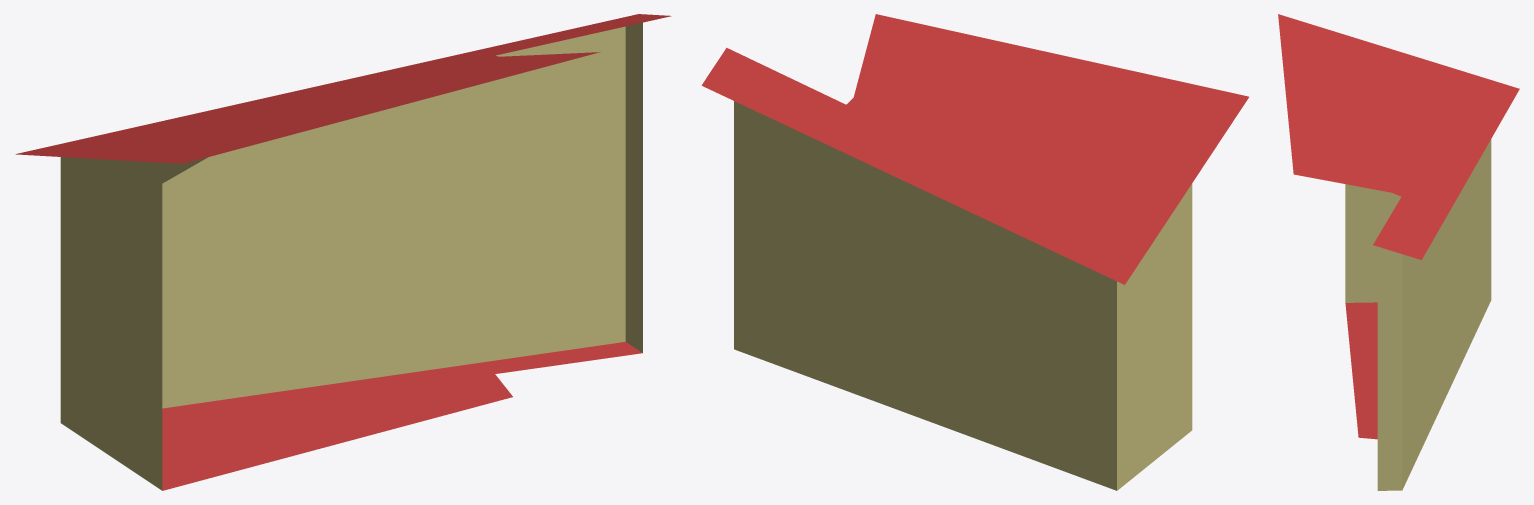
The picture shows the model from 3 angles, left to right: view 1: azimuth 30°, elevation 25°; view 2: azimuth 150°, elevation 25°; view 3: azimuth 270°, elevation 25°; orthographic projection. The views are drawn at different scales.
Bounding box in the file's own units: 15.99 × 7.75 × 9.9.
